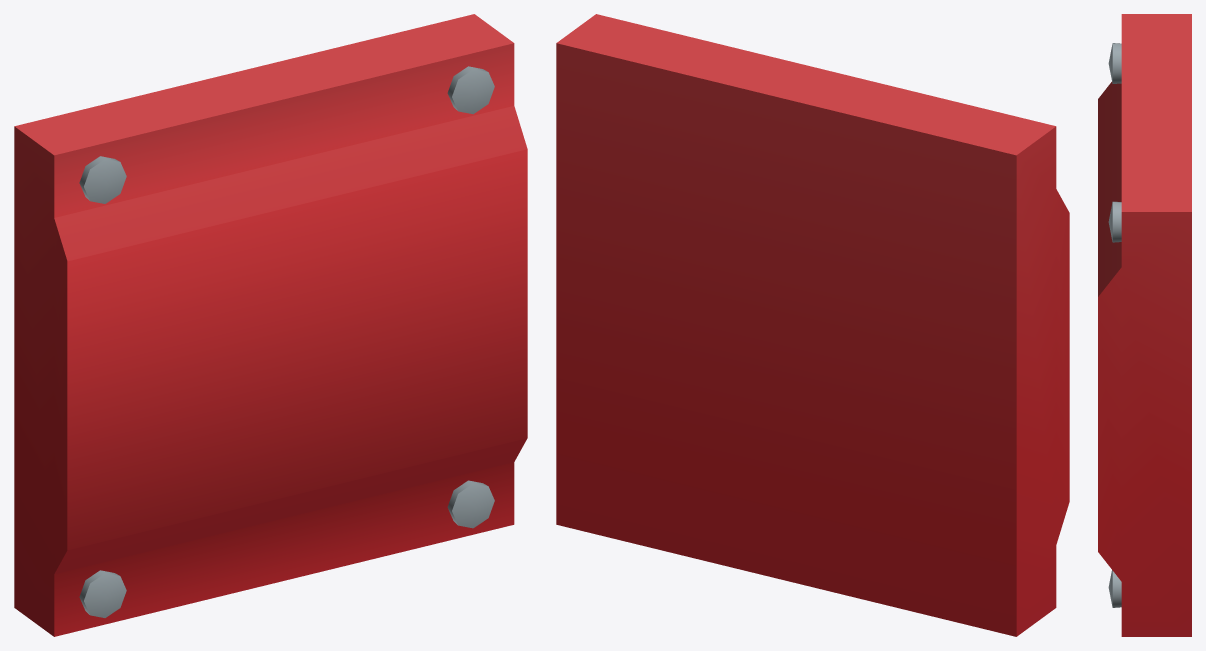
The model's file is bracing_large_red.glb.
3 views of the same model, side by side, from view 1: azimuth 30°, elevation 25°; view 2: azimuth 150°, elevation 25°; view 3: azimuth 270°, elevation 25° (orthographic). The views are drawn at different scales.
Parts seen in each view (by area): view 1: bracing_large_red; view 2: bracing_large_red; view 3: bracing_large_red.
Part boxes in pixels (left/top/right/bottom): bracing_large_red: left=14, top=14, right=527, bottom=636; bracing_large_red: left=556, top=14, right=1069, bottom=636; bracing_large_red: left=1098, top=14, right=1191, bottom=636.
Size of the model in its own units: 1 by 1 by 0.2.
1 material, 1 textured.
